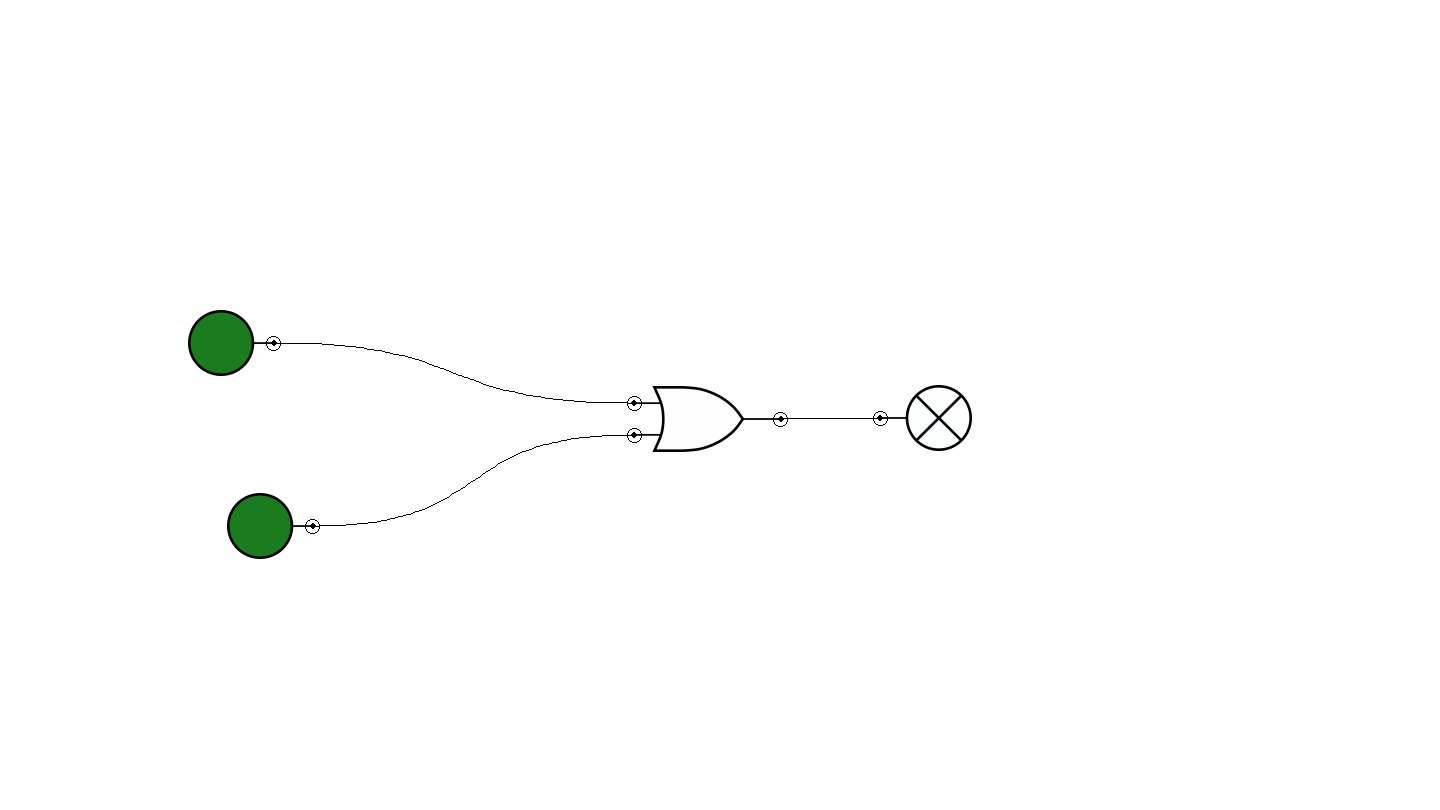bulb: (873, 385, 972, 451)
or: (627, 386, 788, 452)
switch_True: (188, 310, 281, 376), (227, 493, 320, 559)
